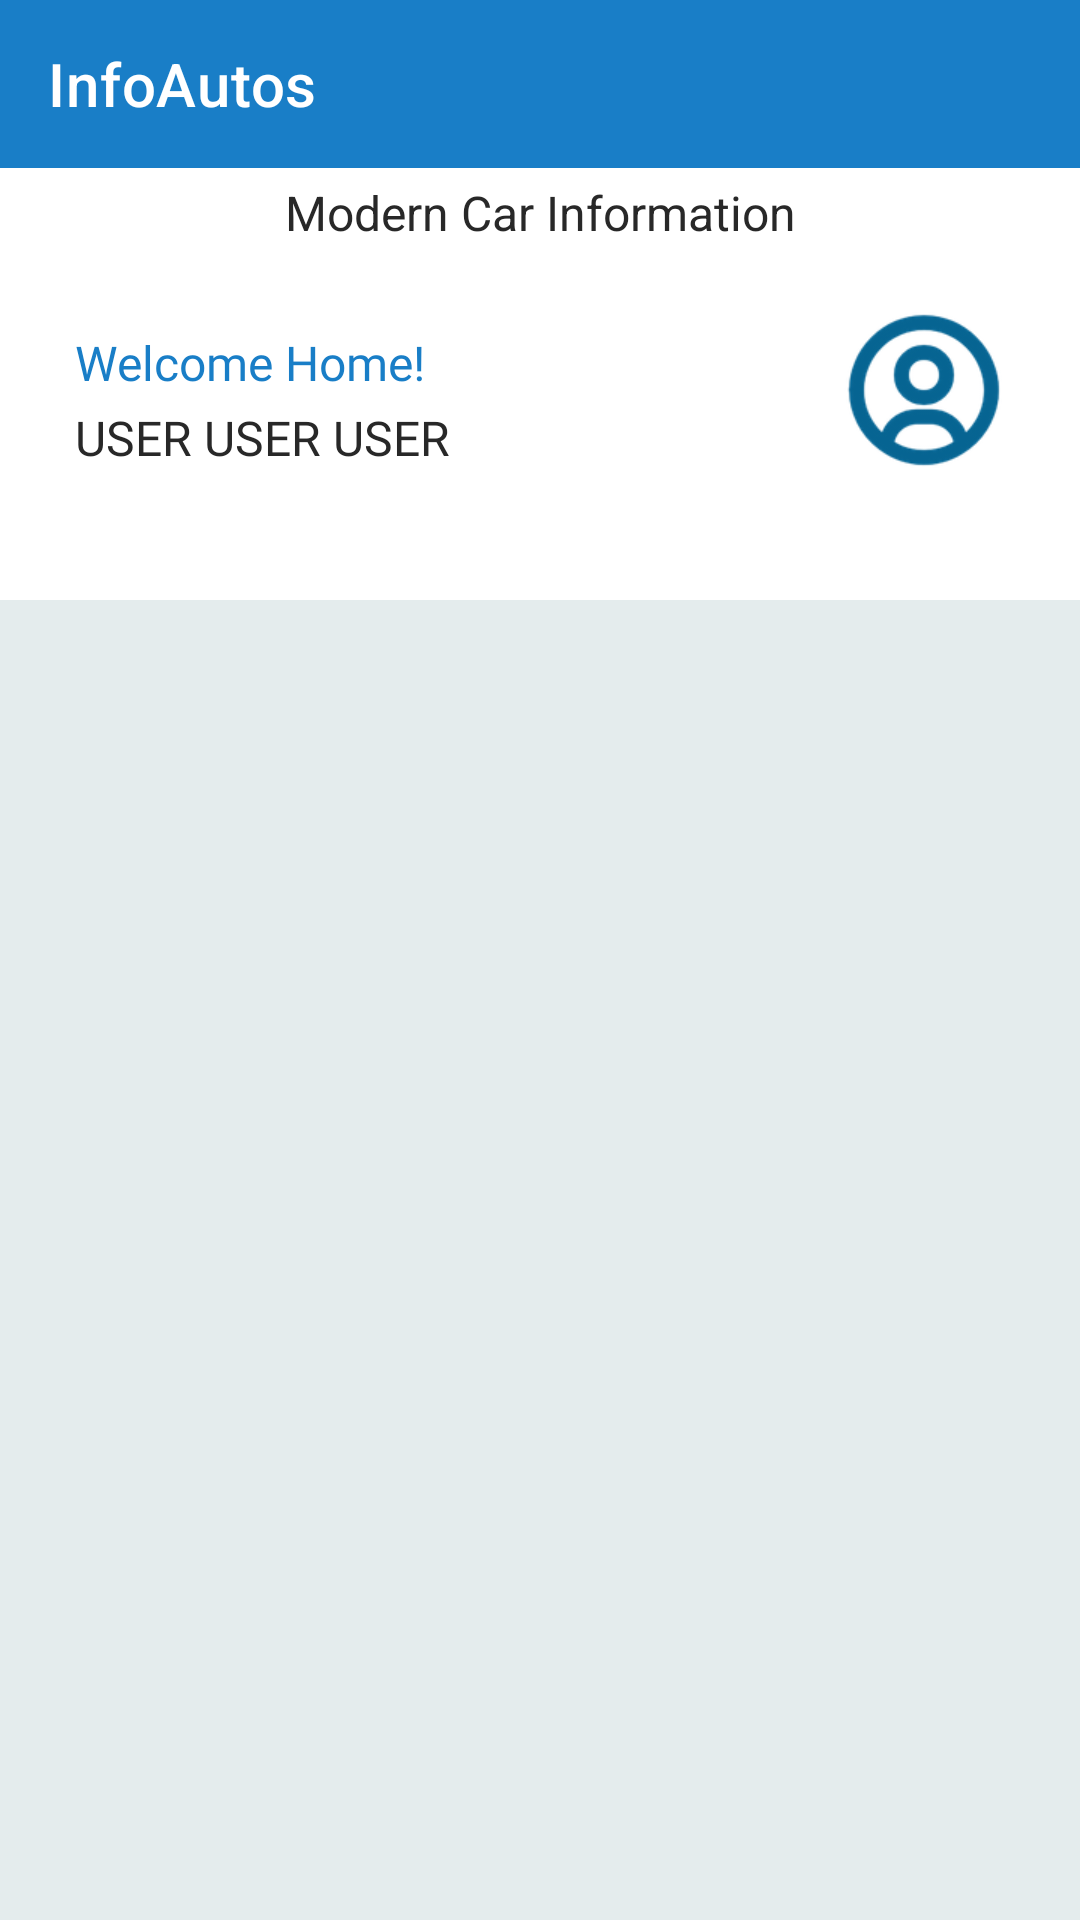

Where icons sit on this 1080*1920 app screen, as (x1, y1, x2, y2):
user circle: (848, 314, 1000, 466)
